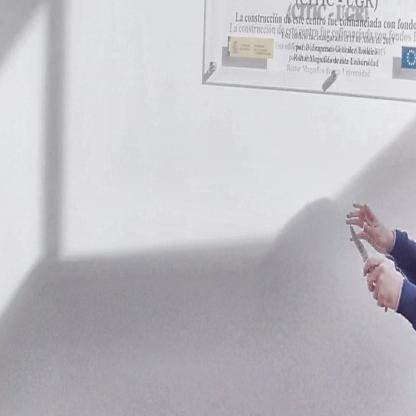knife: (348, 219, 390, 315)
